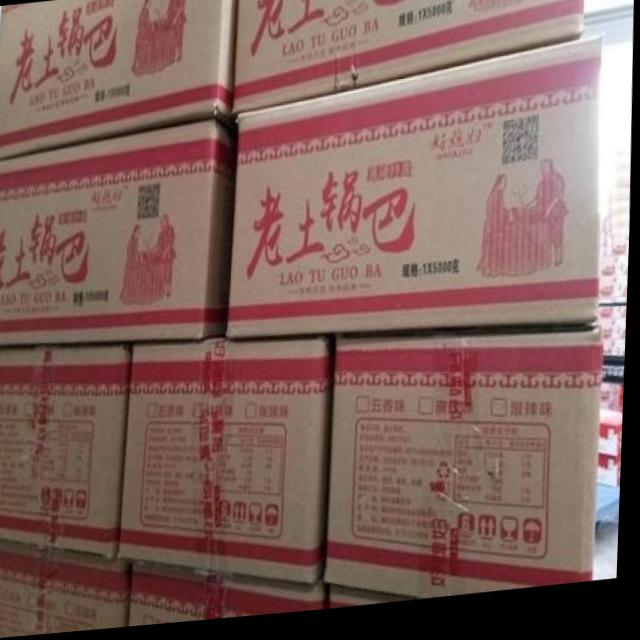box: (230, 45, 604, 343), (327, 338, 606, 606), (121, 341, 340, 591), (0, 121, 237, 347), (232, 0, 585, 118), (0, 0, 239, 160), (0, 347, 131, 561), (0, 537, 134, 639), (133, 564, 328, 629)
